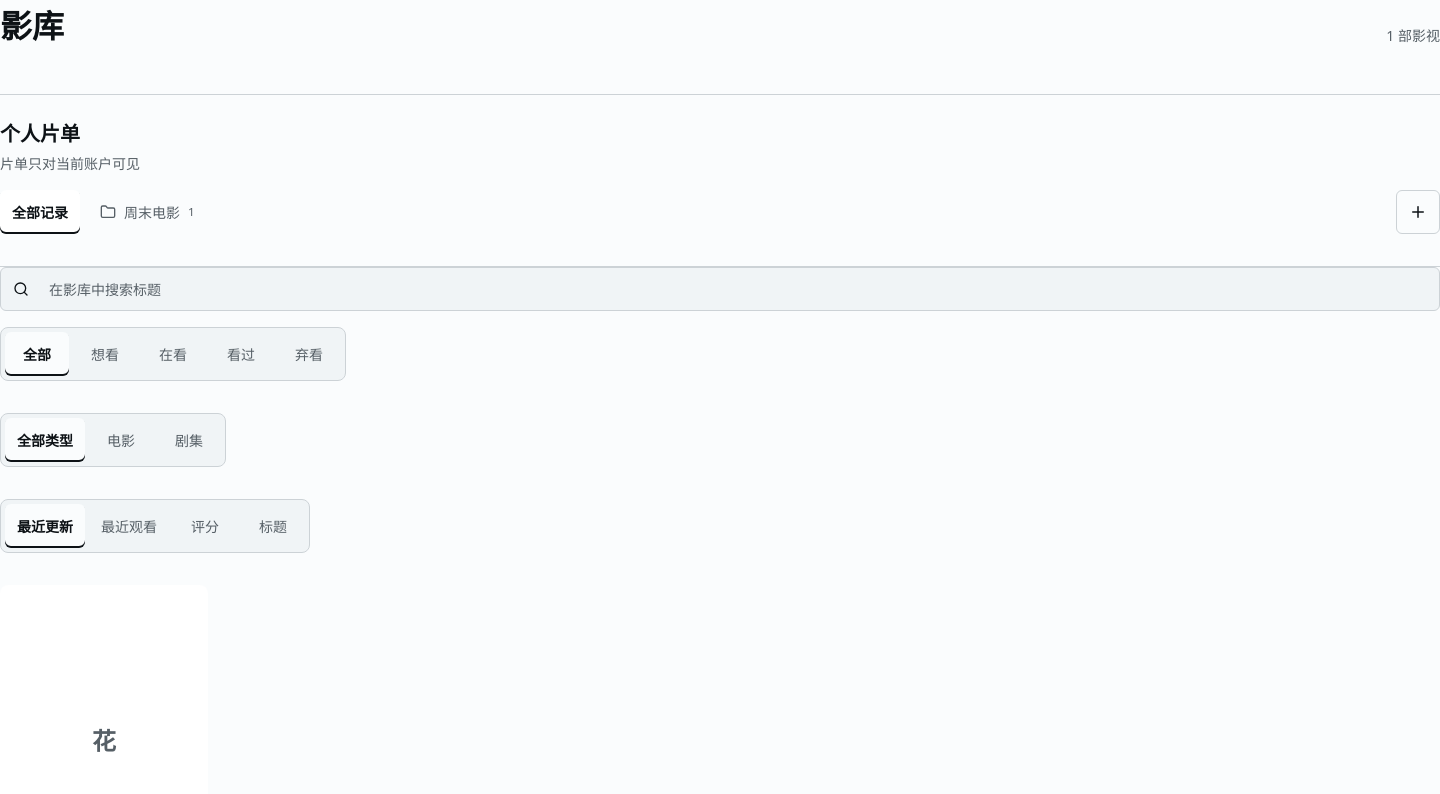
LibraryPage › loads collection items from the server instead of intersecting the library page
Click the button with aria-label "周末电影，1 部影视": (147, 212) 88,190 -> 207,234
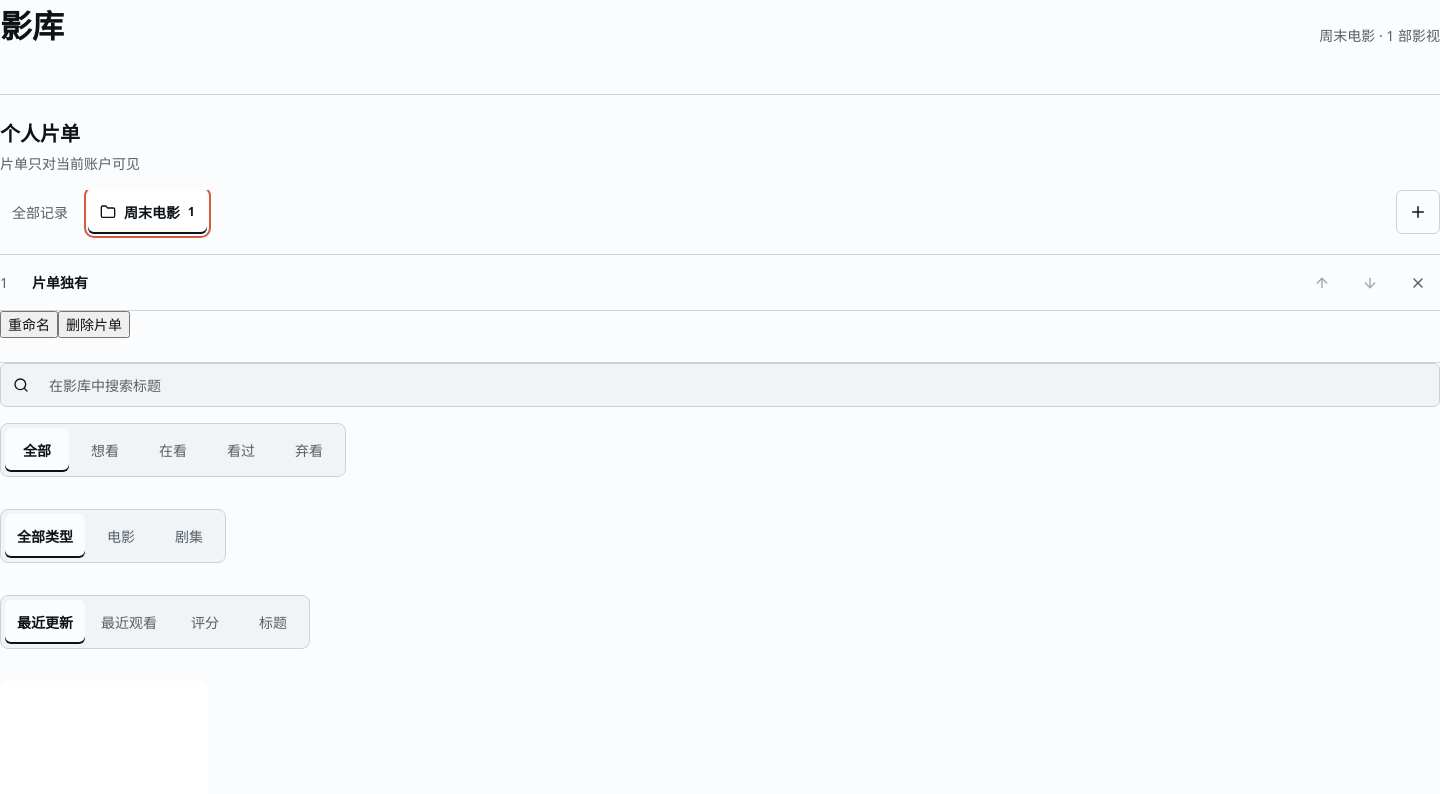
Check: the text "周末电影 · 1 部影视" is shown, box 1319,25 -> 1439,46
# Status filter stacks with the selected collection (Task 10).
Click the button "看过": (241, 450) 209,428 -> 273,472
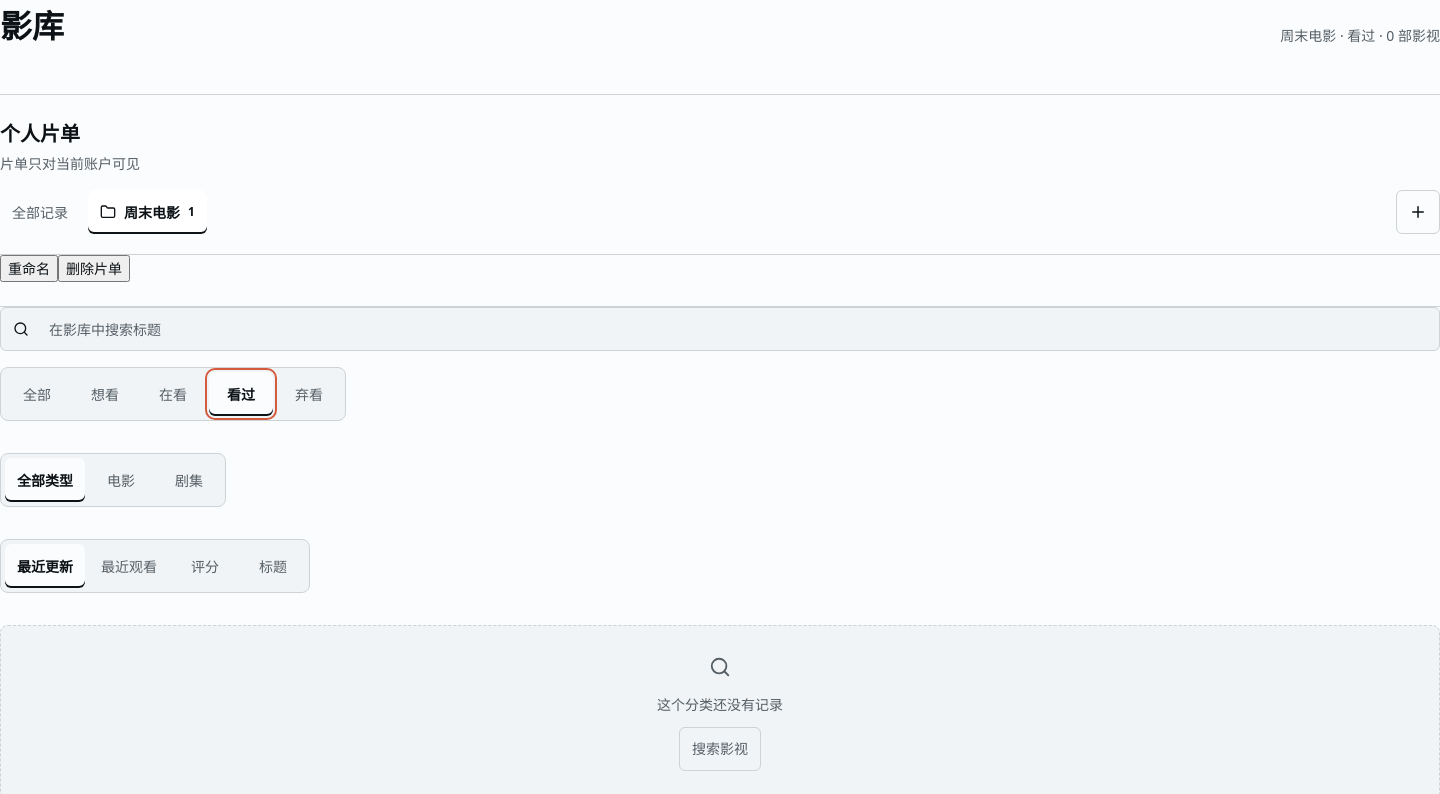
Check: the button "看过" is shown, box 209,372 -> 273,416
Check: the button with aria-label "周末电影，1 部影视" is shown, box 88,190 -> 207,234
Click the button "全部记录": (40, 212) 0,190 -> 80,234
(page scrolled)
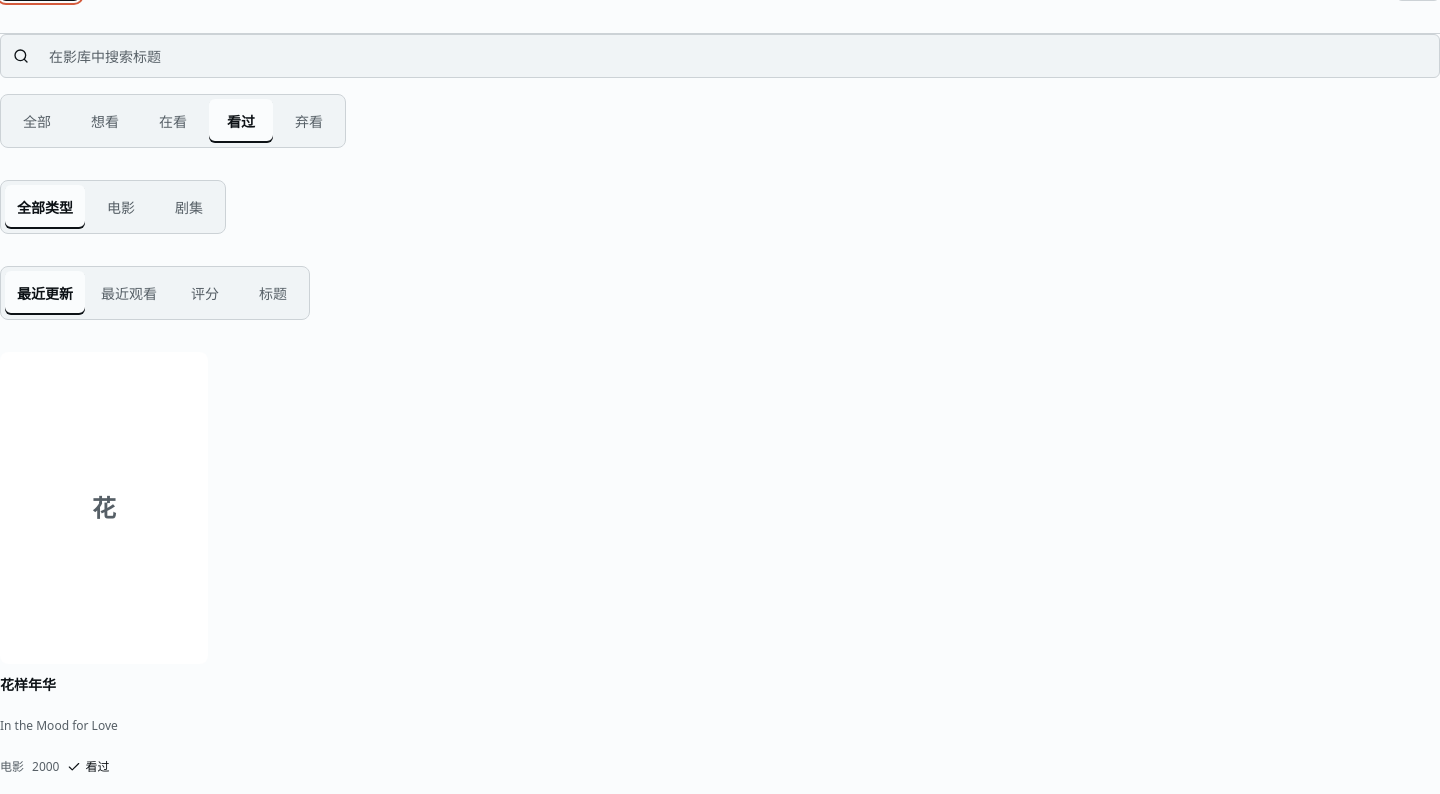
Check: the text "In the Mood for Love" is shown, box 0,717 -> 118,734
